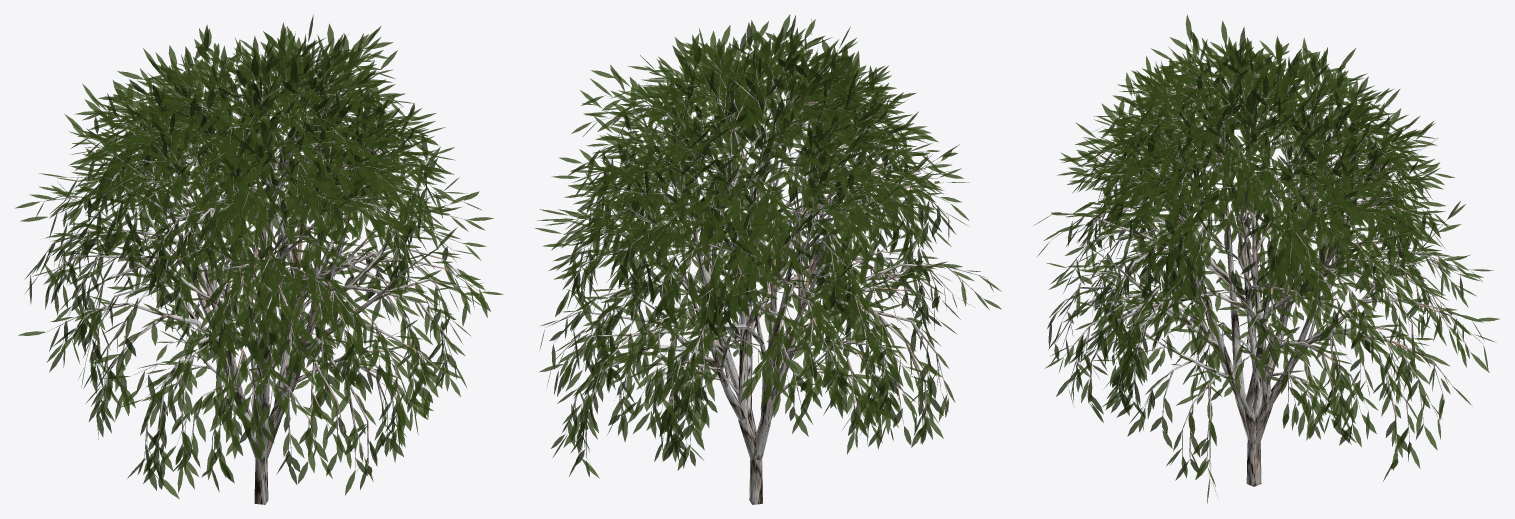
The model's file is Light Wood Tree 4.fbx.
3 renders of one model, left to right at view 1: azimuth 30°, elevation 25°; view 2: azimuth 150°, elevation 25°; view 3: azimuth 270°, elevation 25°, orthographic. The views are drawn at different scales.
Parts seen in each view (by area): view 1: leaves.005, Light Wood Tree 4; view 2: leaves.005, Light Wood Tree 4; view 3: leaves.005, Light Wood Tree 4.
Part boxes in pixels (x1,y1,x2,y2): leaves.005: (15,14,503,499); Light Wood Tree 4: (31,43,479,504); leaves.005: (535,14,1001,478); Light Wood Tree 4: (545,41,986,504); leaves.005: (1033,14,1499,503); Light Wood Tree 4: (1052,43,1482,486).
Bounding box in the file's own units: 893 × 1007 × 956.
